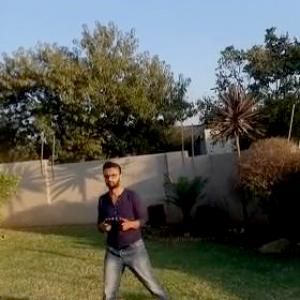follow: (95, 154, 179, 299)
